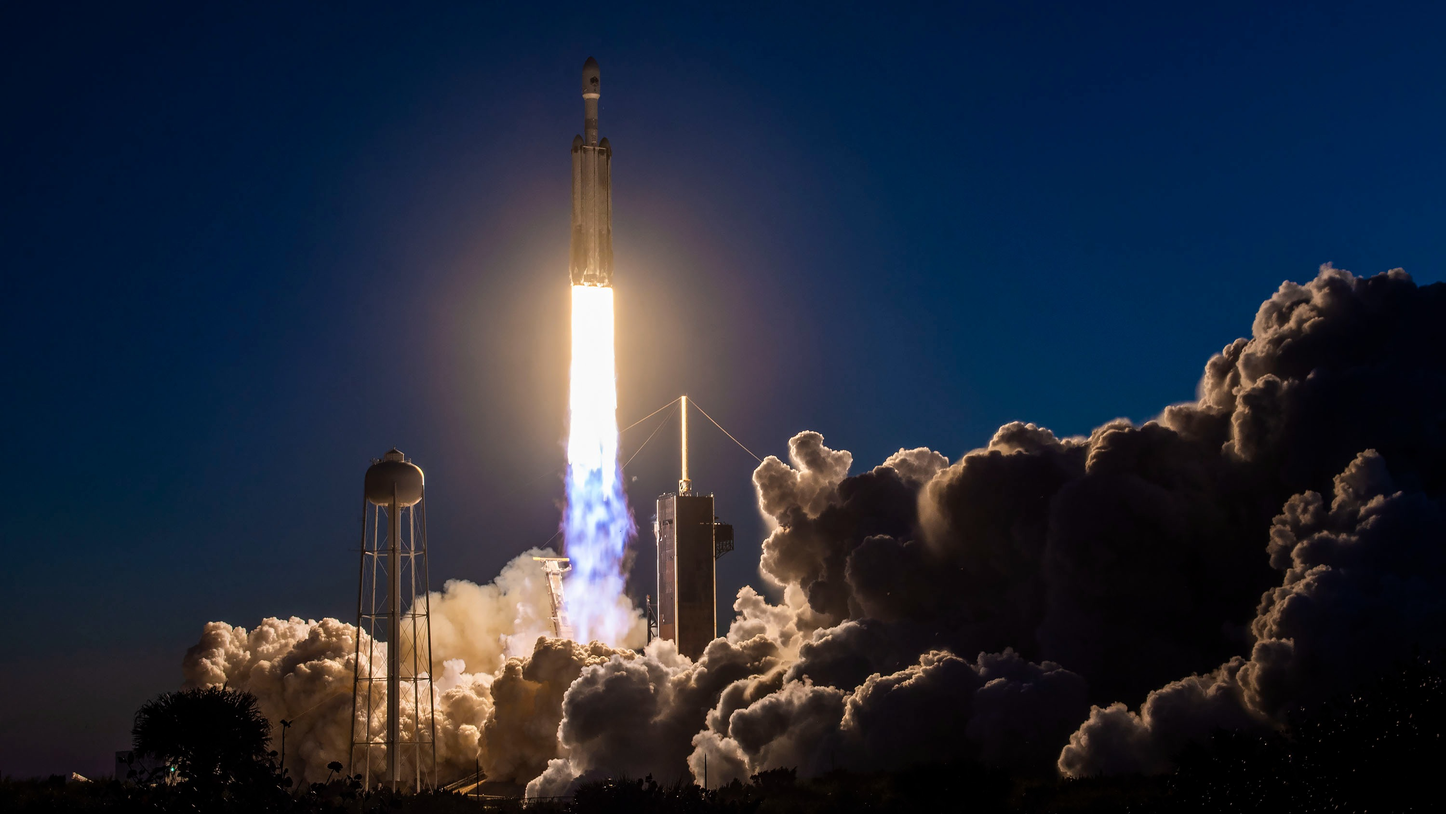falcon: (558, 40, 626, 294)
